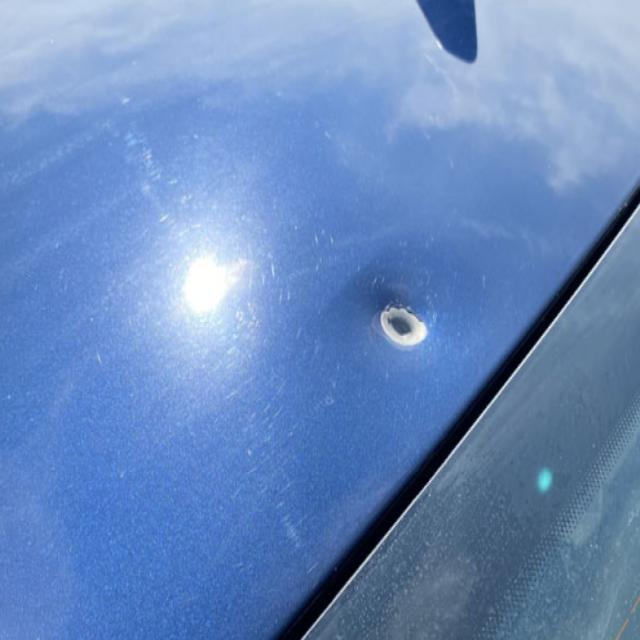dents: (358, 283, 477, 367)
